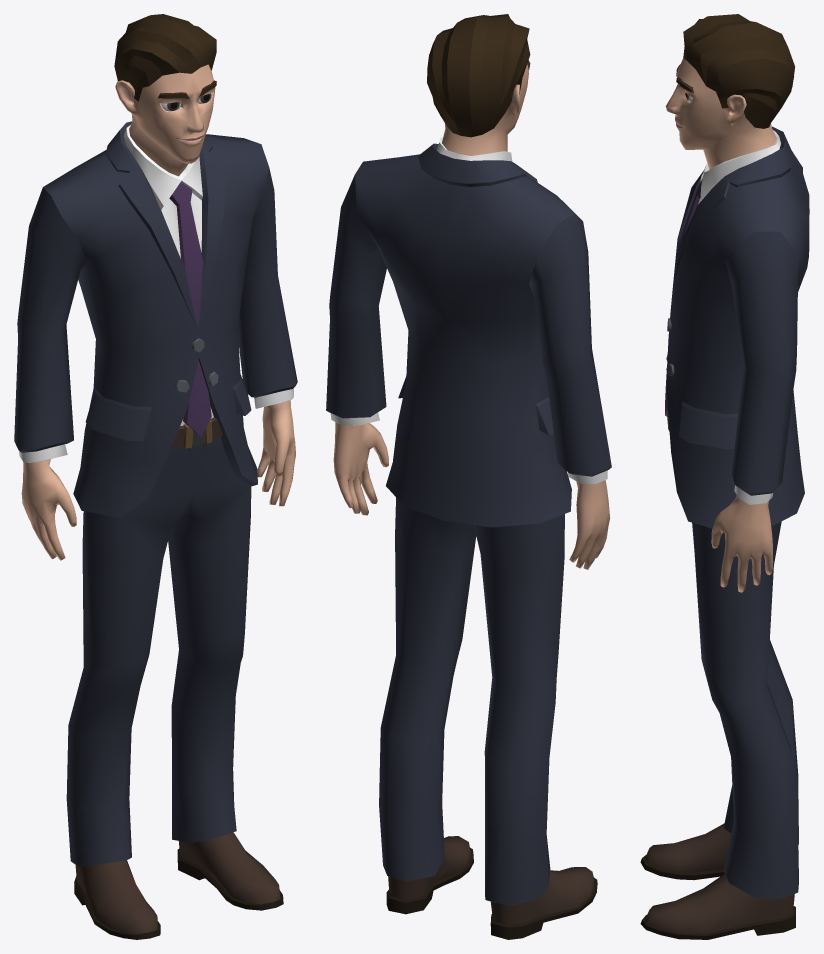
The picture shows the model from 3 angles, left to right: view 1: azimuth 30°, elevation 25°; view 2: azimuth 150°, elevation 25°; view 3: azimuth 270°, elevation 25°; orthographic projection.
Visible parts, largest first — view 1: man_in_suit; view 2: man_in_suit; view 3: man_in_suit.
Boxes of the visible parts, left/top/right/bottom form: man_in_suit: left=14, top=14, right=297, bottom=939; man_in_suit: left=326, top=14, right=611, bottom=939; man_in_suit: left=640, top=14, right=809, bottom=939.
Size of what is drawn, in the model's own units: 59.45 by 178 by 31.12.
